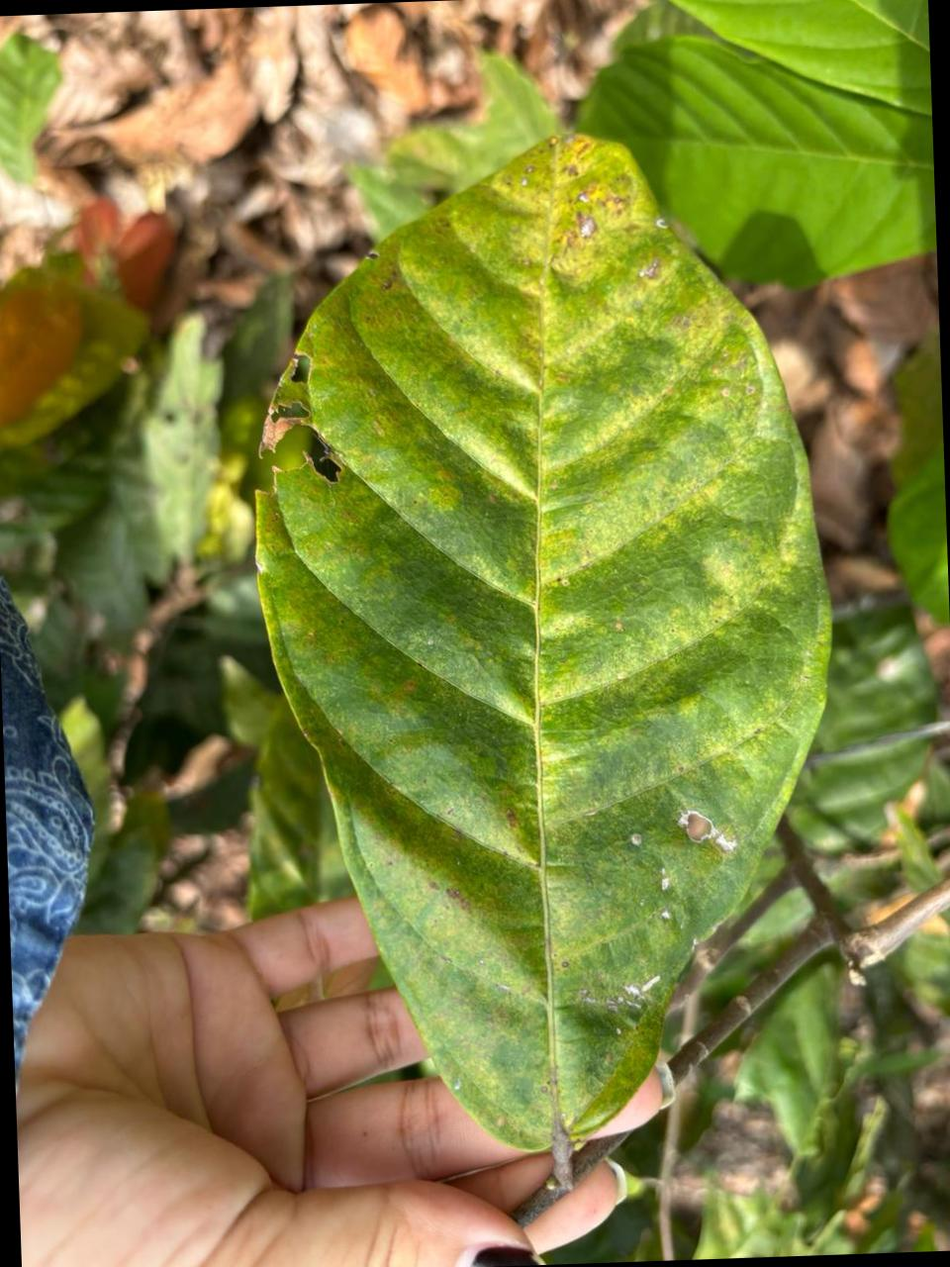Fosforo: (257, 138, 829, 1148)
